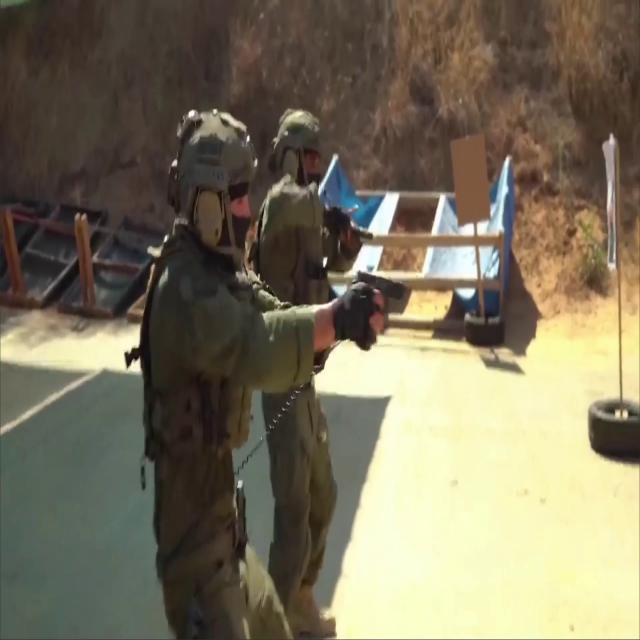gun: (356, 268, 404, 354), (342, 220, 376, 248)
